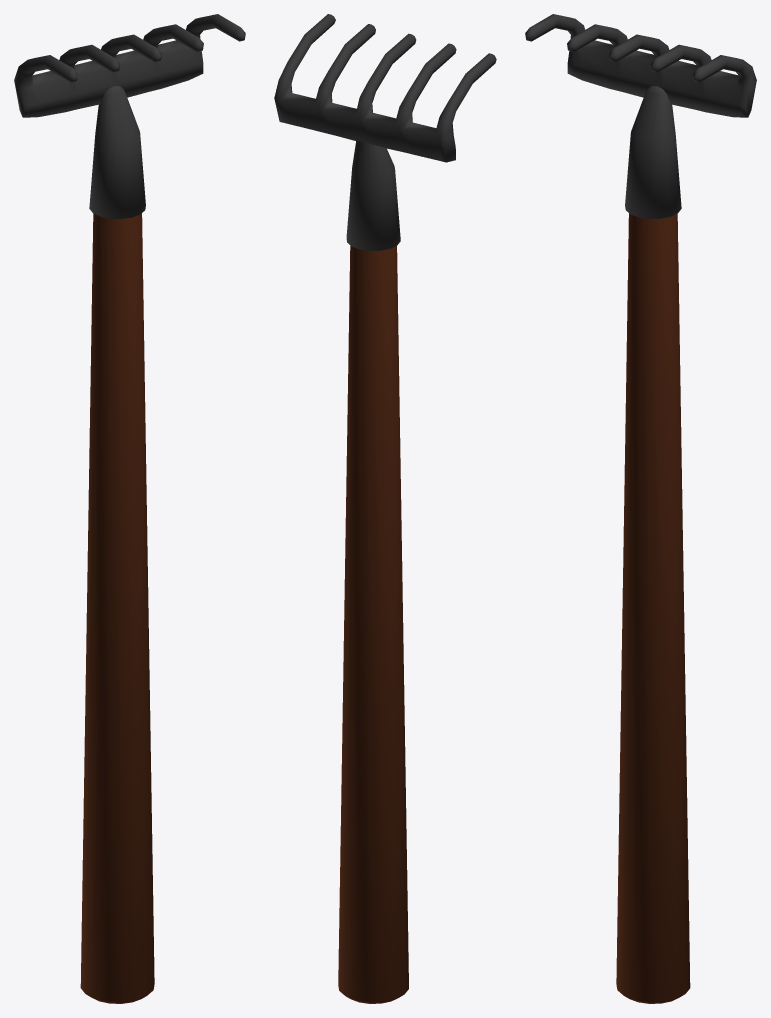
The model's file is Enxada.fbx.
The picture shows the model from 3 angles, left to right: view 1: azimuth 30°, elevation 25°; view 2: azimuth 150°, elevation 25°; view 3: azimuth 330°, elevation 25°; orthographic projection. The views are drawn at different scales.
Parts seen in each view (by area): view 1: Enxada_Corpo, Enxada_Cabeca; view 2: Enxada_Corpo, Enxada_Cabeca; view 3: Enxada_Corpo, Enxada_Cabeca.
Part boxes in pixels (x1,y1,x2,y2): Enxada_Corpo: [80, 213, 154, 1003]; Enxada_Cabeca: [14, 14, 245, 218]; Enxada_Corpo: [338, 245, 408, 1003]; Enxada_Cabeca: [274, 14, 496, 250]; Enxada_Corpo: [616, 213, 690, 1003]; Enxada_Cabeca: [525, 14, 756, 218].
Bounding box in the file's own units: 27.25 × 138 × 15.78.
